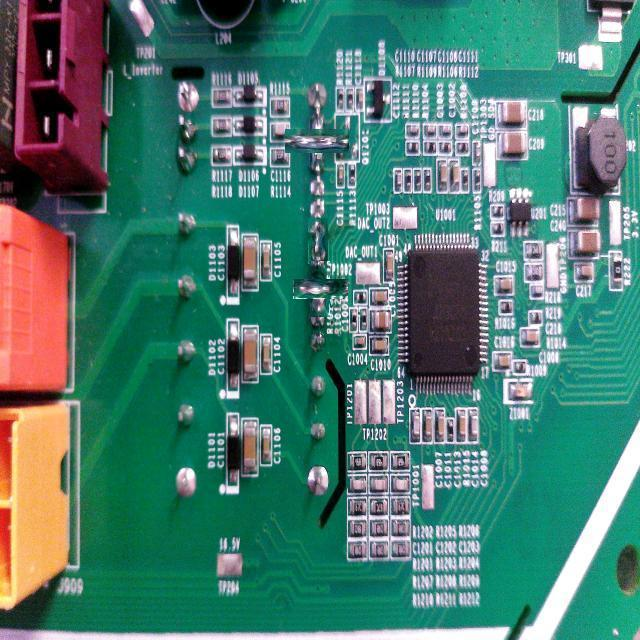Short_circuit: (295, 118, 340, 163), (301, 270, 339, 308), (308, 218, 328, 264)
